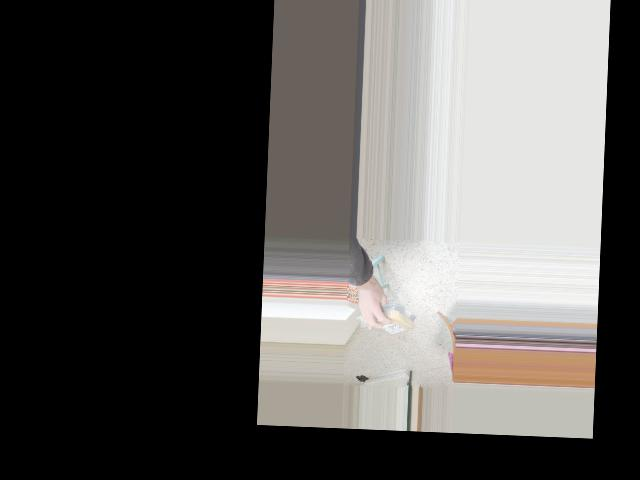cheese: (363, 306, 416, 334)
